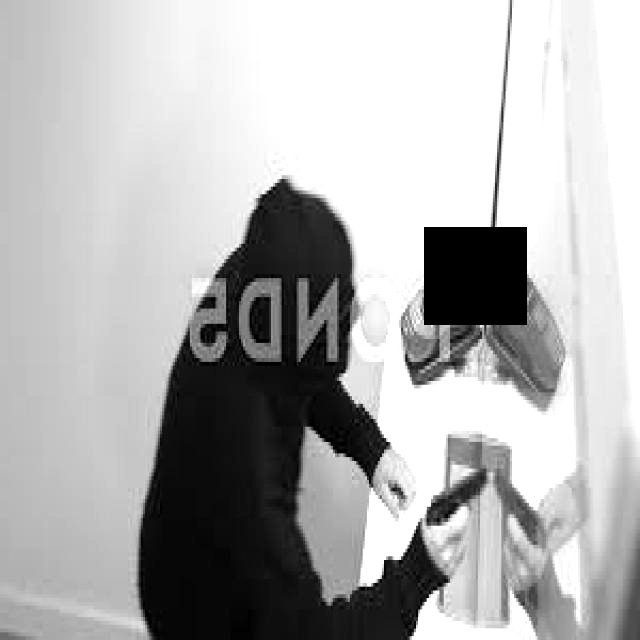gun: (422, 460, 490, 571), (490, 460, 542, 560)
